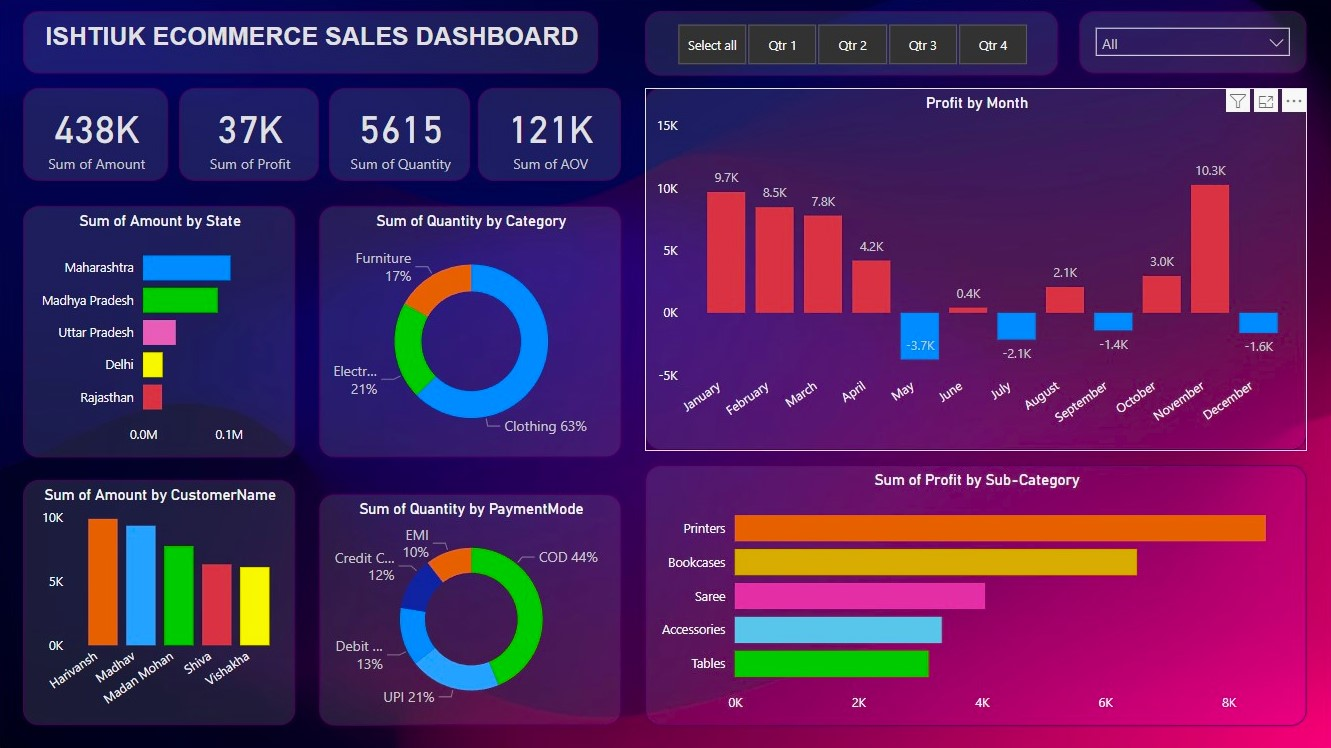

What the dashboard file says about the page in this screenshot:
{"tool":"powerbi","page":{"name":"Page 1","canvas":[1280,720],"ordinal":0},"visuals":[{"type":"textbox","box":[24.3,13.6,551.5,60.3],"z":0},{"type":"columnChart","title":"Profit by Month","fields":{"Y":["Details.Profit"],"Category":["Orders.Order Date.Variation.Date Hierarchy.Month"]},"box":[619.6,87.5,634.2,347.2],"z":1000},{"type":"barChart","fields":{"Category":["Details.Sub-Category"],"Y":["Details.Profit"]},"box":[619.6,448.4,634.2,250],"z":2000},{"type":"donutChart","fields":{"Category":["Details.Category"],"Y":["Details.Quantity"]},"box":[307.4,200.4,289.8,241.2],"z":3000},{"type":"card","fields":{"Values":["Details.Amount"]},"box":[24.3,87.5,139.1,88.5],"z":4000},{"type":"card","fields":{"Values":["Details.Profit"]},"box":[173.1,87.5,134.2,88.5],"z":5000},{"type":"donutChart","fields":{"Category":["Details.PaymentMode"],"Y":["Details.Quantity"]},"box":[307.4,476.6,289.8,221.8],"z":6000},{"type":"card","fields":{"Values":["Details.Quantity"]},"box":[317.1,87.5,135.2,88.5],"z":7000},{"type":"card","fields":{"Values":["Details.AOV"]},"box":[460.1,87.5,137.1,88.5],"z":8000},{"type":"barChart","fields":{"Y":["Details.Amount"],"Category":["Orders.State"]},"box":[24.3,200.4,260.7,241.2],"z":9000},{"type":"columnChart","fields":{"Y":["Details.Amount"],"Category":["Orders.CustomerName"]},"box":[24.3,463,260.7,235.4],"z":10000},{"type":"slicer","fields":{"Values":["Orders.State"]},"box":[1035.9,13.6,217.9,60.3],"z":11000},{"type":"slicer","fields":{"Values":["Orders.Order Date.Variation.Date Hierarchy.Quarter"]},"box":[619.6,13.6,395.9,62],"z":12000}]}

Visuals, with their boxes in screenshot pixels (x1, y1, x2, y2), scaled from the page's 1280x720 canvas onto the 1331x748 screenshot:
textbox: rect(25, 14, 599, 77)
"Profit by Month" columnChart: rect(644, 91, 1304, 452)
barChart - Details.Sub-Category x Details.Profit: rect(644, 466, 1304, 726)
donutChart - Details.Category x Details.Quantity: rect(320, 208, 621, 459)
card - Details.Amount: rect(25, 91, 170, 183)
card - Details.Profit: rect(180, 91, 320, 183)
donutChart - Details.PaymentMode x Details.Quantity: rect(320, 495, 621, 726)
card - Details.Quantity: rect(330, 91, 470, 183)
card - Details.AOV: rect(478, 91, 621, 183)
barChart - Details.Amount x Orders.State: rect(25, 208, 296, 459)
columnChart - Details.Amount x Orders.CustomerName: rect(25, 481, 296, 726)
slicer - Orders.State: rect(1077, 14, 1304, 77)
slicer - Orders.Order Date.Variation.Date Hierarchy.Quarter: rect(644, 14, 1056, 79)
